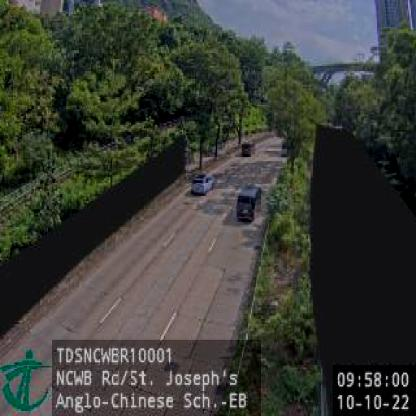Car: (237, 185, 259, 221), (191, 174, 214, 194), (240, 141, 252, 156)
